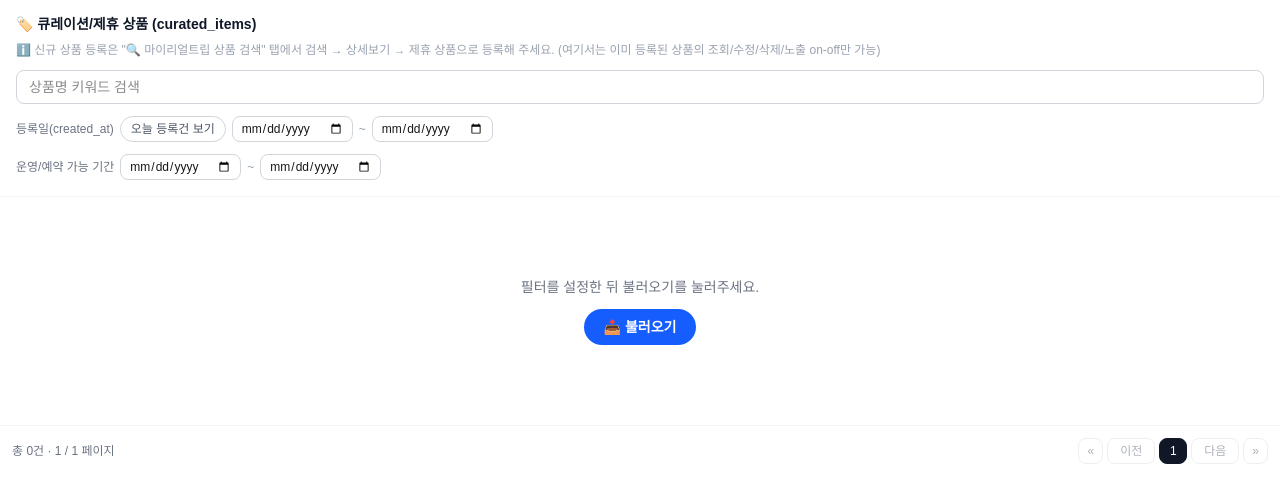
CuratedItemsPanel › 목록을 불러와 상품명/카테고리/운영기간/등록일을 보여준다
This screenshot has width=1280, height=481.
Click the button "📥 불러오기".
click(640, 327)  # box [584,309,696,345]
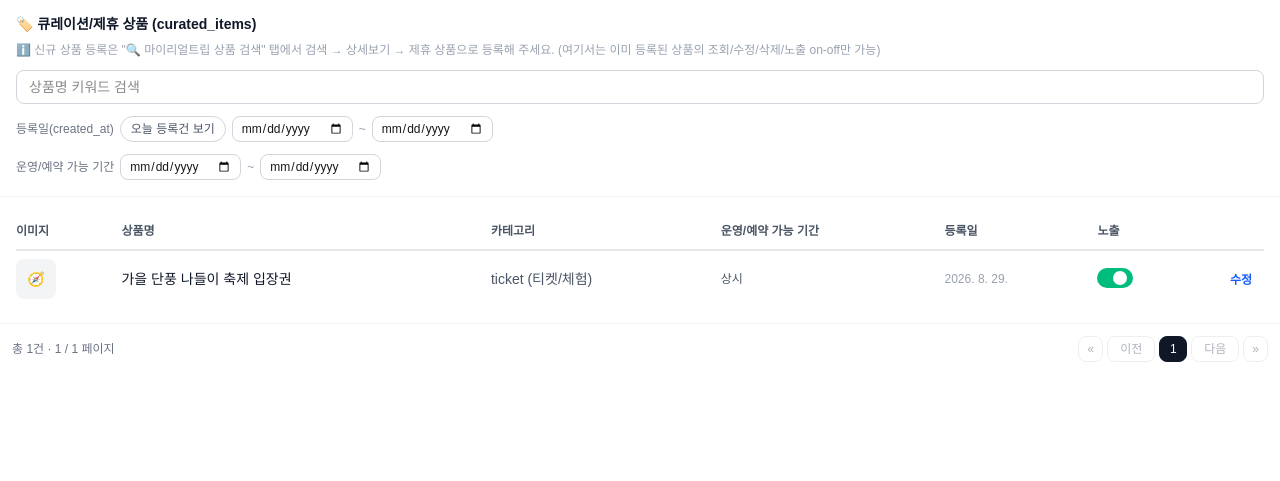
Check: the text "가을 단풍 나들이 축제 입장권" is shown, box [122,250,491,307]
Check: the text "ticket (티켓/체험)" is shown, box [491,250,721,307]
Check: the text "상시" is shown, box [721,250,944,307]
